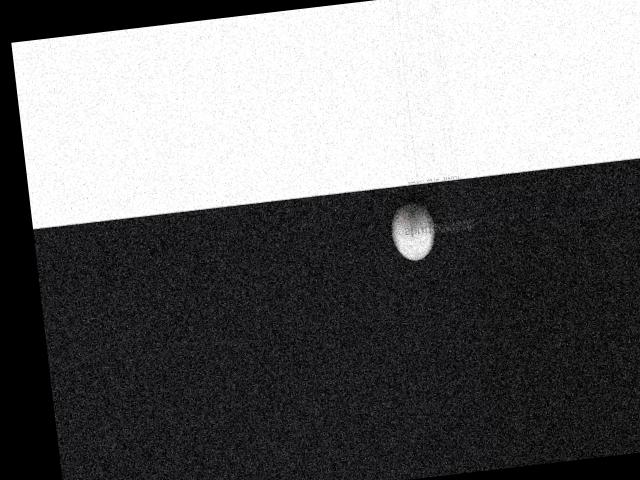egg: (388, 199, 437, 263)
